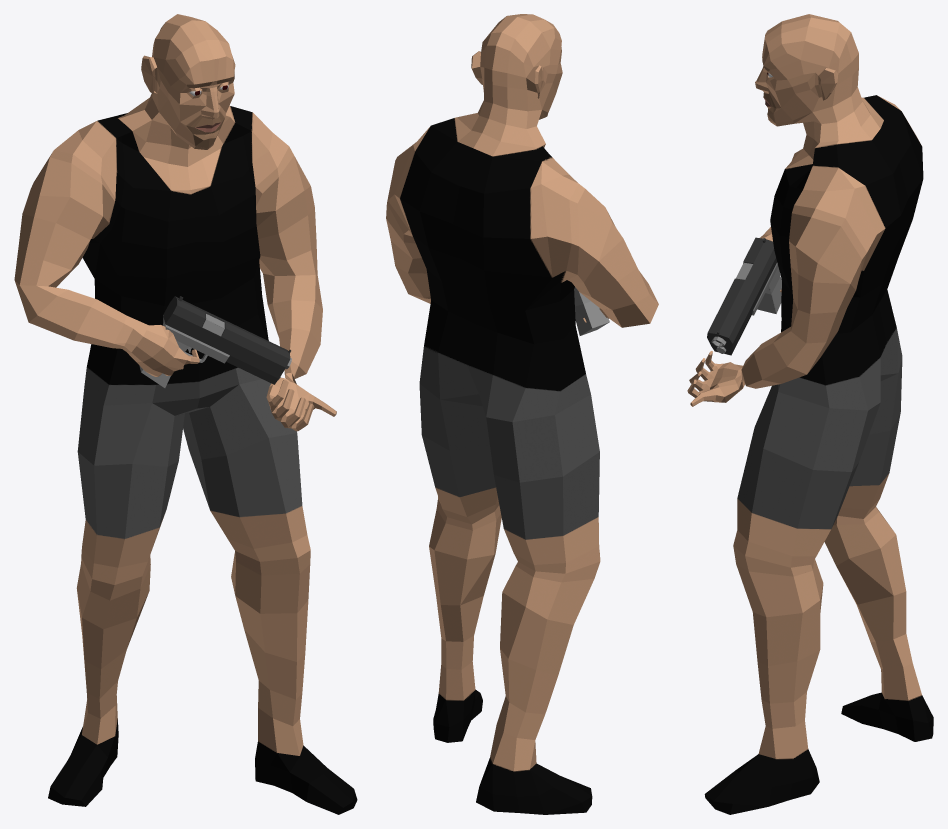
The model's file is PlayerIdle(216).obj.
The picture shows the model from 3 angles, left to right: view 1: azimuth 30°, elevation 25°; view 2: azimuth 150°, elevation 25°; view 3: azimuth 270°, elevation 25°; orthographic projection. The views are drawn at different scales.
Visible parts, largest first — view 1: Plane002, Box003; view 2: Plane002, Box003; view 3: Plane002, Box003.
Boxes of the visible parts, x1=… form: Plane002: x1=14, y1=14, x2=357, y2=814; Box003: x1=139, y1=296, x2=291, y2=387; Plane002: x1=386, y1=14, x2=658, y2=814; Box003: x1=574, y1=287, x2=609, y2=335; Plane002: x1=687, y1=14, x2=933, y2=814; Box003: x1=707, y1=237, x2=781, y2=355.
Size of the model in its own units: 676 by 1800 by 542.
